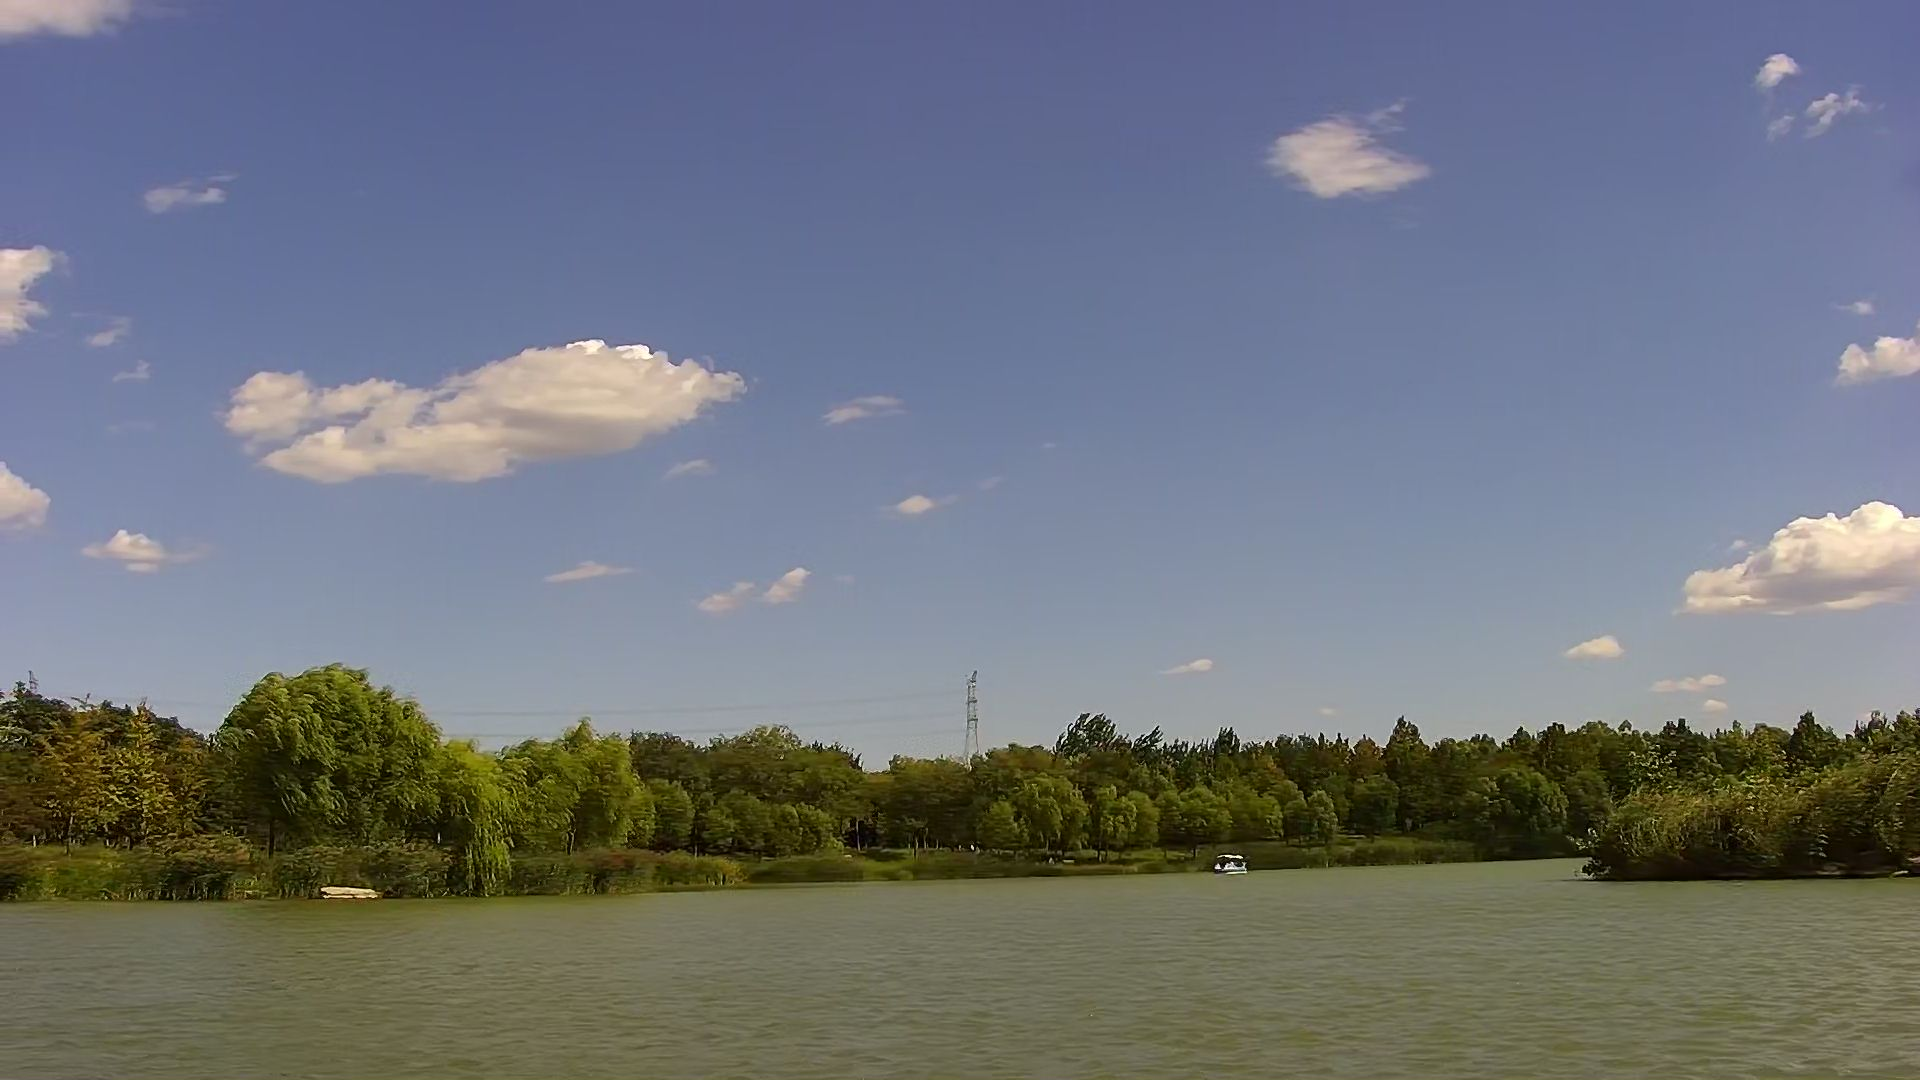boat: (1213, 853, 1246, 876)
rock: (316, 876, 380, 902)
